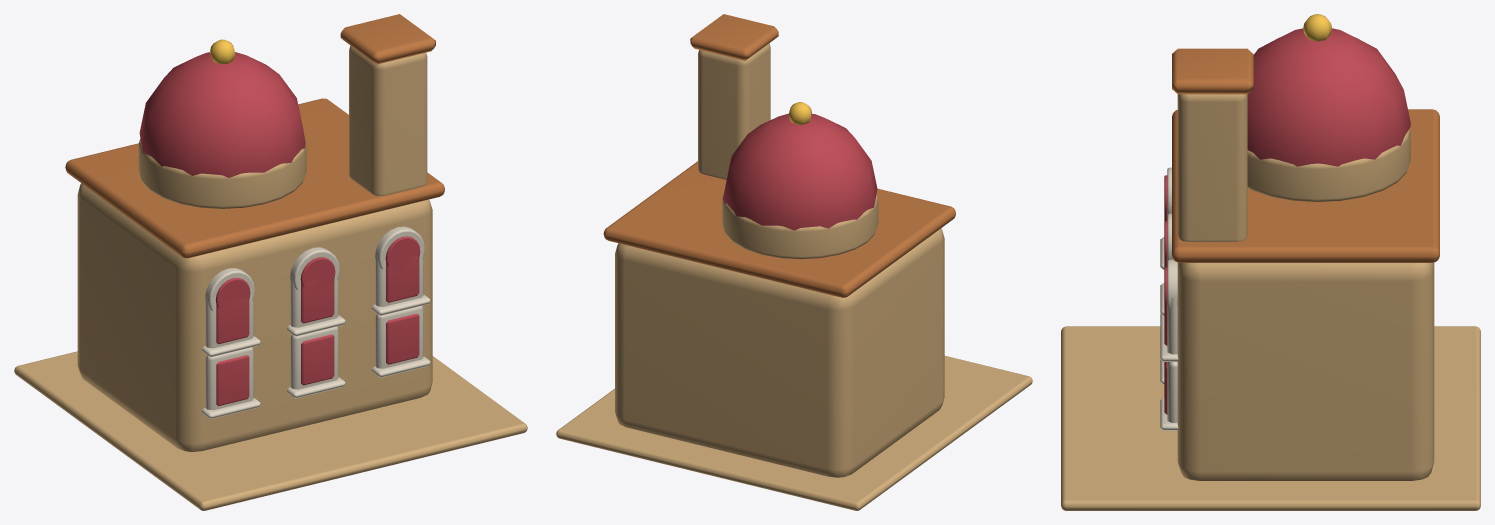
3 renders of one model, left to right at view 1: azimuth 30°, elevation 25°; view 2: azimuth 150°, elevation 25°; view 3: azimuth 270°, elevation 25°, orthographic. The views are drawn at different scales.
Parts seen in each view (by area): view 1: Cube; view 2: Cube; view 3: Cube.
Boxes of the visible parts, x1=… form: Cube: x1=14, y1=14, x2=527, y2=510; Cube: x1=556, y1=14, x2=1032, y2=510; Cube: x1=1061, y1=14, x2=1480, y2=510.
Size of the model in its own units: 0.72 by 0.775 by 0.72.
